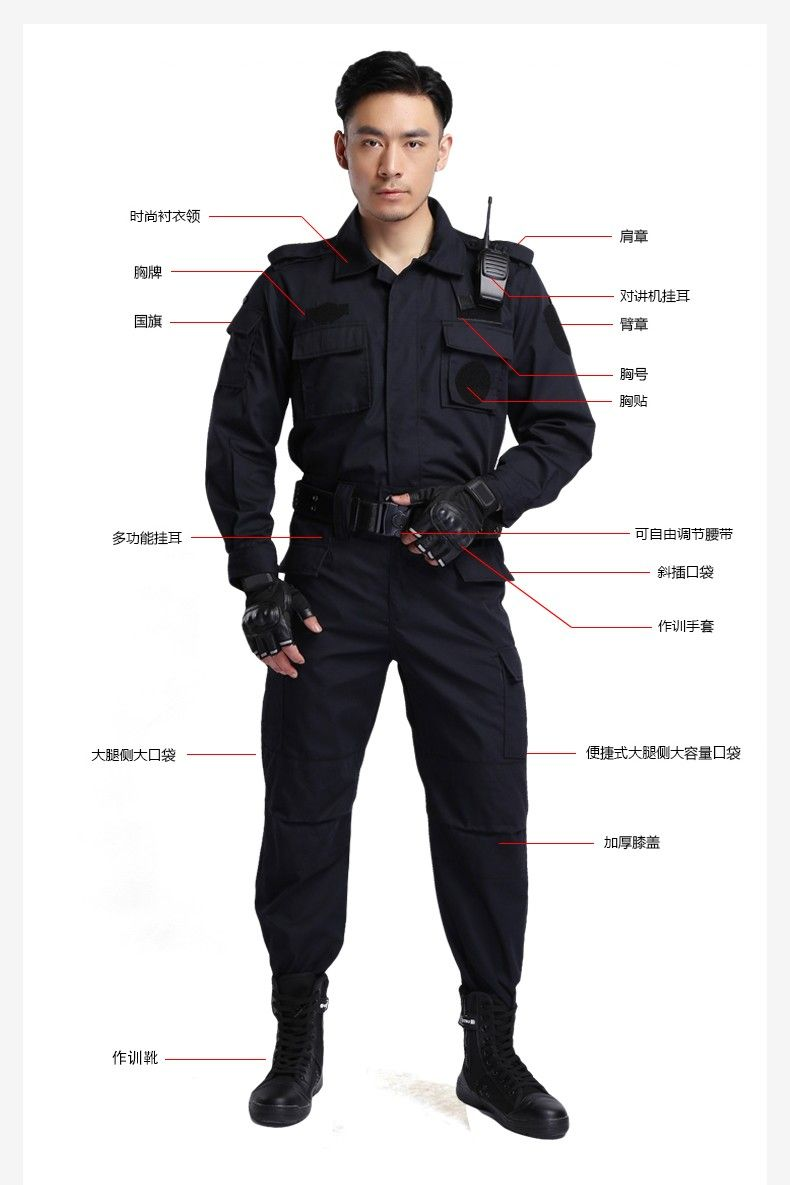uniform: (231, 227, 528, 1033)
